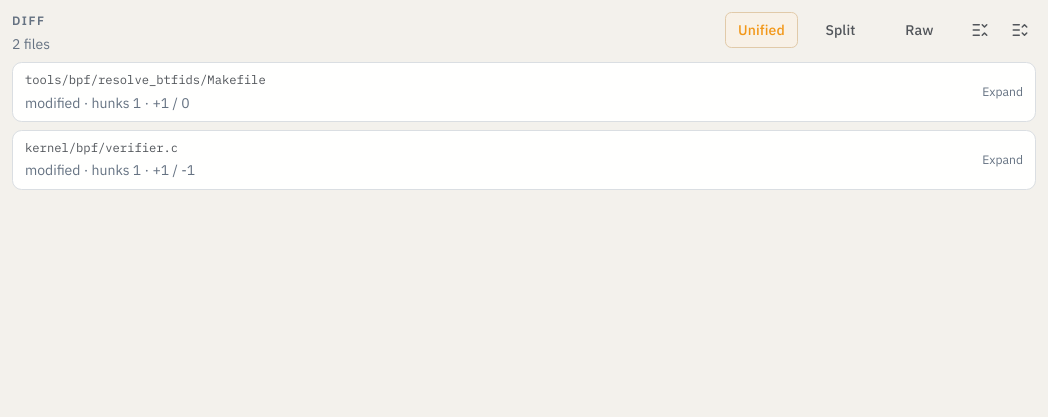
Test: MessageDiffViewer › falls back to raw section rendering when highlighting fails
Step 1. Click the button with aria-label "Toggle file diff card: tools/bpf/resolve_btfids/Makefile" → click(145, 79), box [25,71,1023,113]
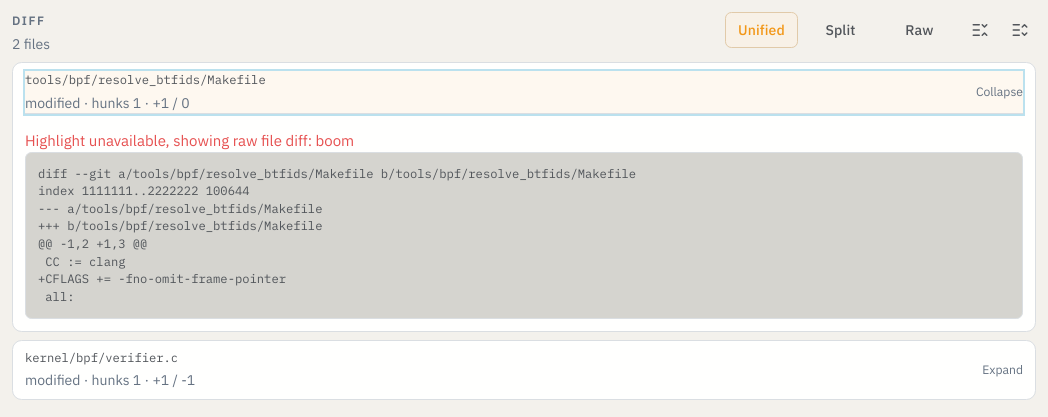
Result: the text "Highlight unavailable, showing raw file diff: boom" is shown at [25,131,354,150]
Result: the text "diff --git a/tools/bpf/resolve_btfids/Makefile" is shown at [38,166,636,304]
